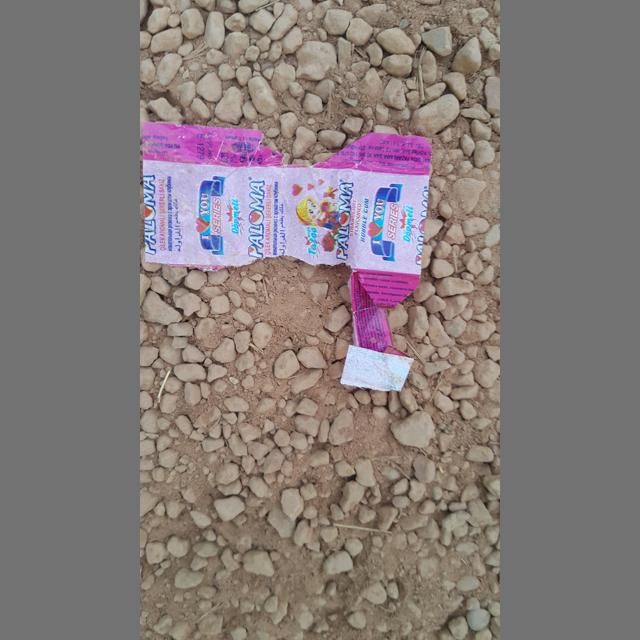litter: (143, 122, 432, 391)
